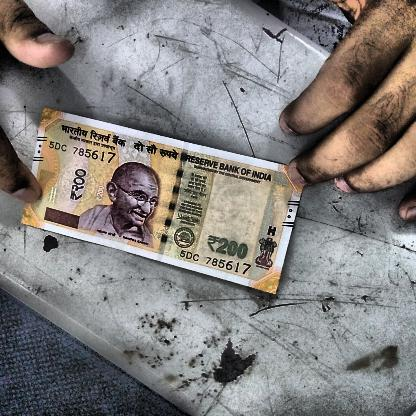Rs200: (199, 231, 254, 264)
